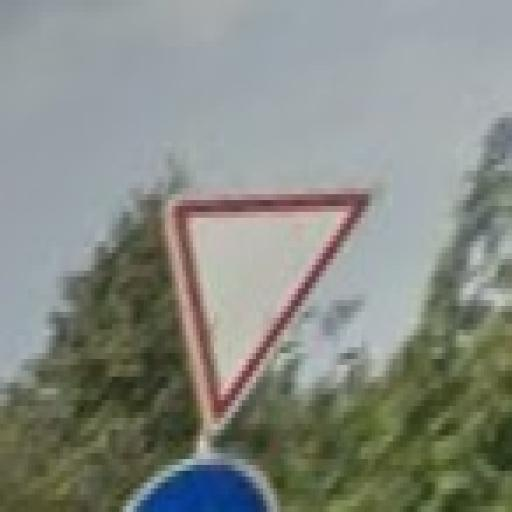traffic_sign: (163, 184, 384, 443)
